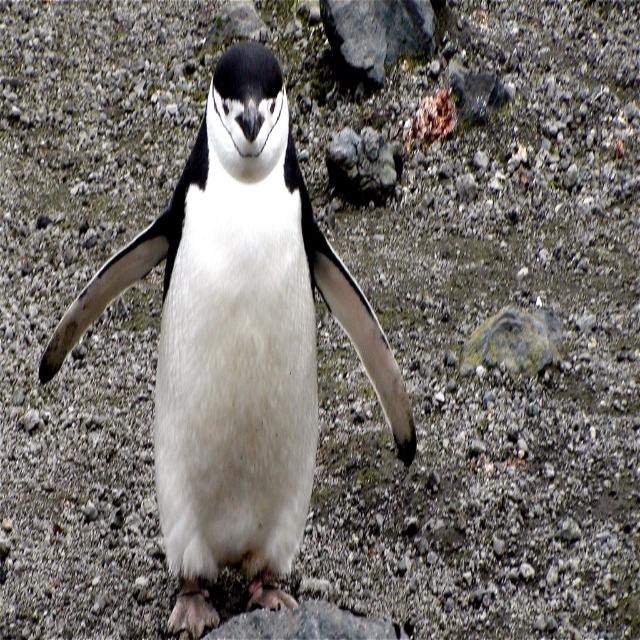Penguin: (38, 40, 417, 640)
